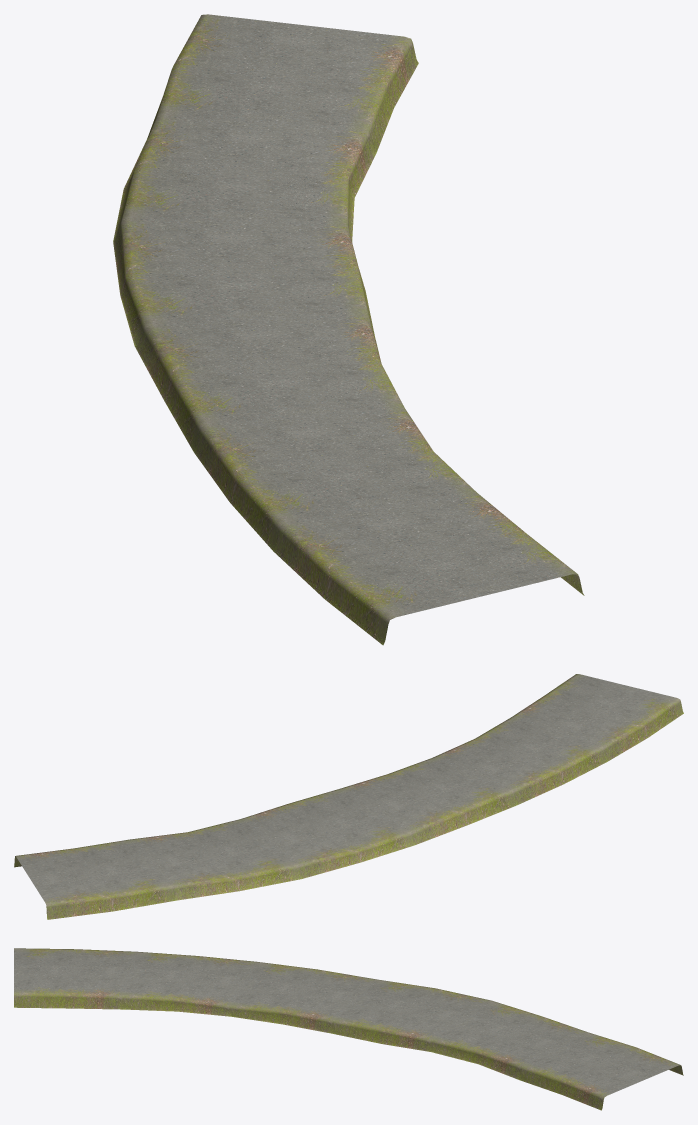
File: SM_road_dirt_curve_01.fbx
3 renders of one model, top to bottom at view 1: azimuth 30°, elevation 25°; view 2: azimuth 150°, elevation 25°; view 3: azimuth 270°, elevation 25°, orthographic. The views are drawn at different scales.
Parts seen in each view (by area): view 1: Plane012; view 2: Plane012; view 3: Plane012.
Boxes of the visible parts, box(x1,y1,x2,y2) form: Plane012: box(113, 14, 584, 645); Plane012: box(14, 674, 683, 919); Plane012: box(14, 948, 683, 1110).
Bounding box in the file's own units: 365 × 14.07 × 680.
